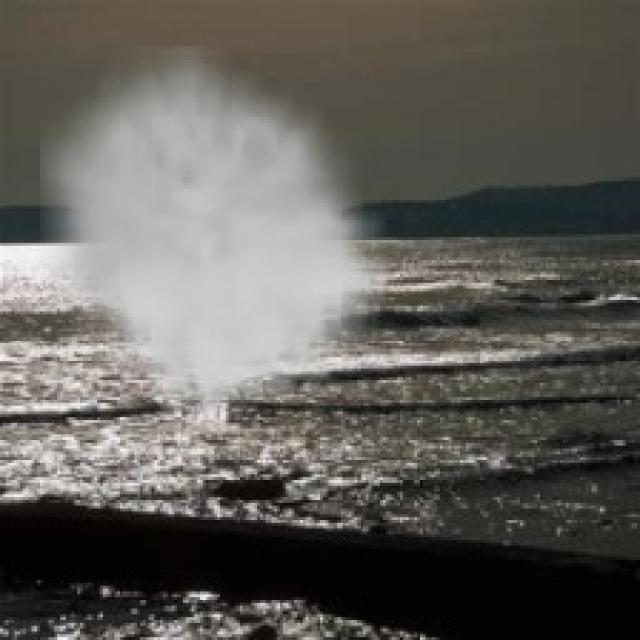smoke: (40, 46, 386, 434)
